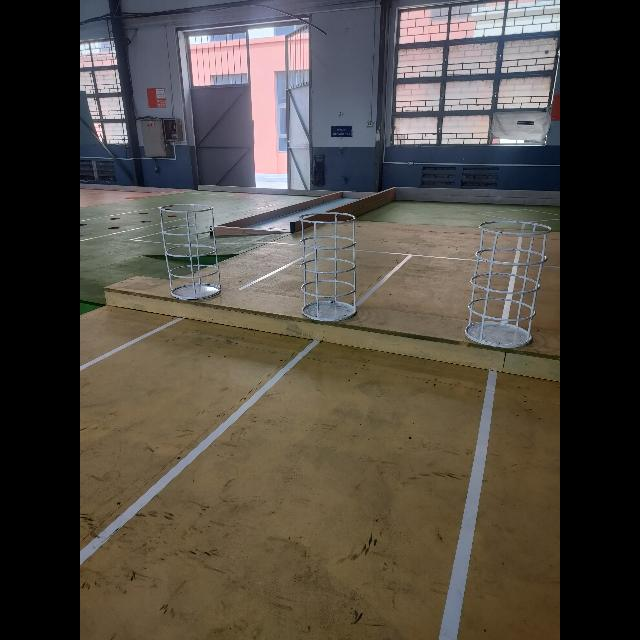S: (462, 220, 553, 351), (298, 211, 361, 325), (158, 202, 224, 306)
